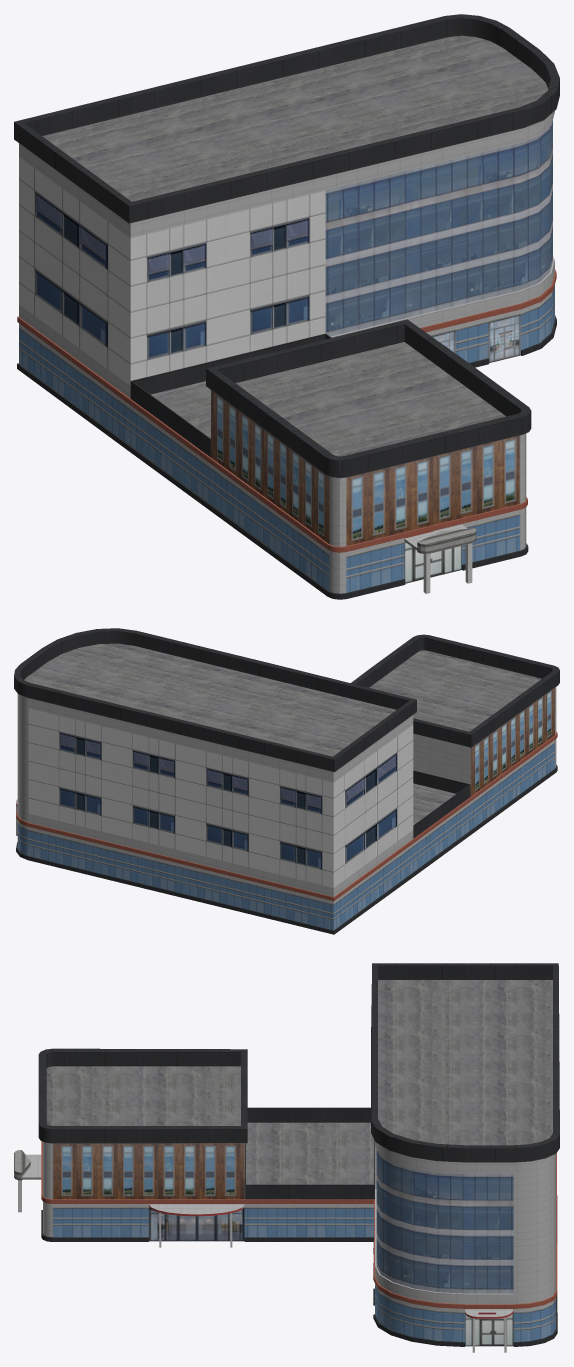
The model's file is office.glb.
3 views of the same model, one above another, from view 1: azimuth 30°, elevation 25°; view 2: azimuth 150°, elevation 25°; view 3: azimuth 270°, elevation 25° (orthographic). The views are drawn at different scales.
Visible parts, largest first — view 1: Cube.002; view 2: Cube.002; view 3: Cube.002.
Boxes of the visible parts, x1,y1,x2,y2 form: Cube.002: (14, 14, 559, 599); Cube.002: (14, 628, 559, 934); Cube.002: (14, 963, 559, 1352).
Bounding box in the file's own units: 57.29 × 27.92 × 69.02.
Materials: 1 (1 with a texture image).
